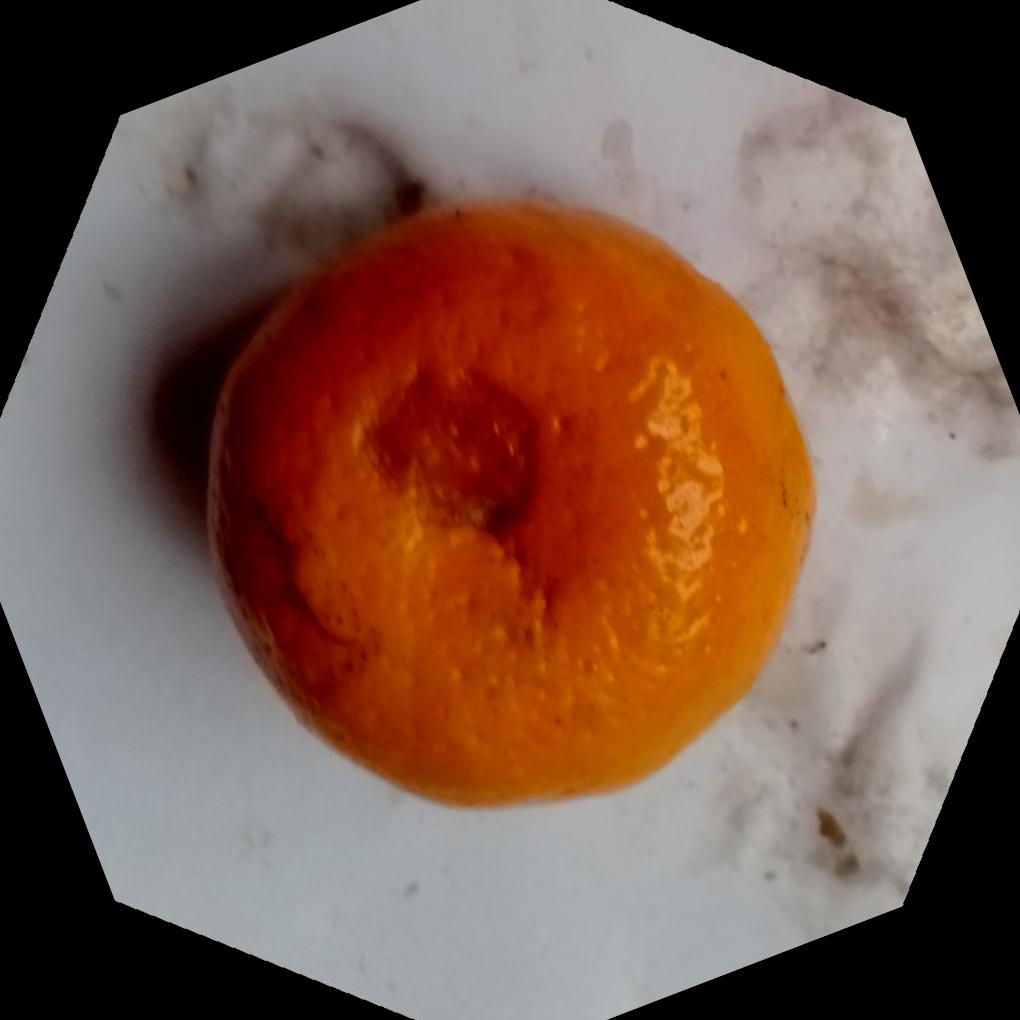FreshOrange: (201, 190, 817, 806)
